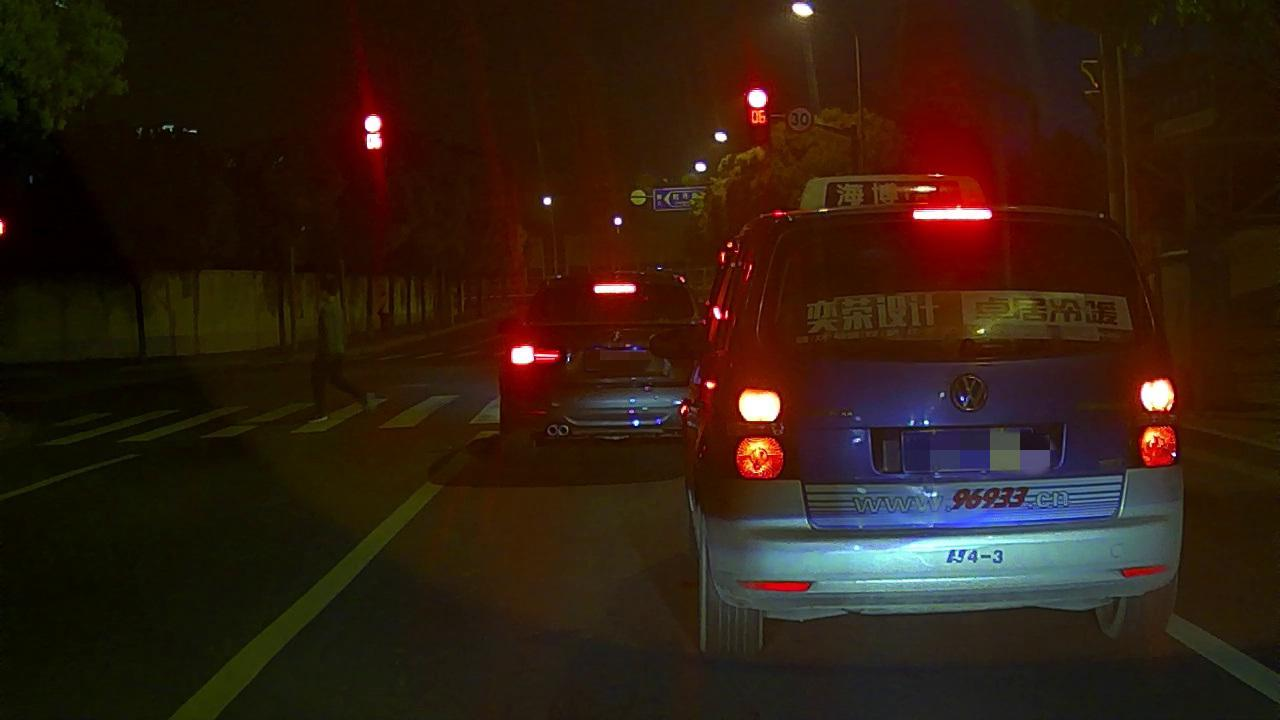traffic_light: (749, 88, 770, 149), (363, 116, 382, 149)
